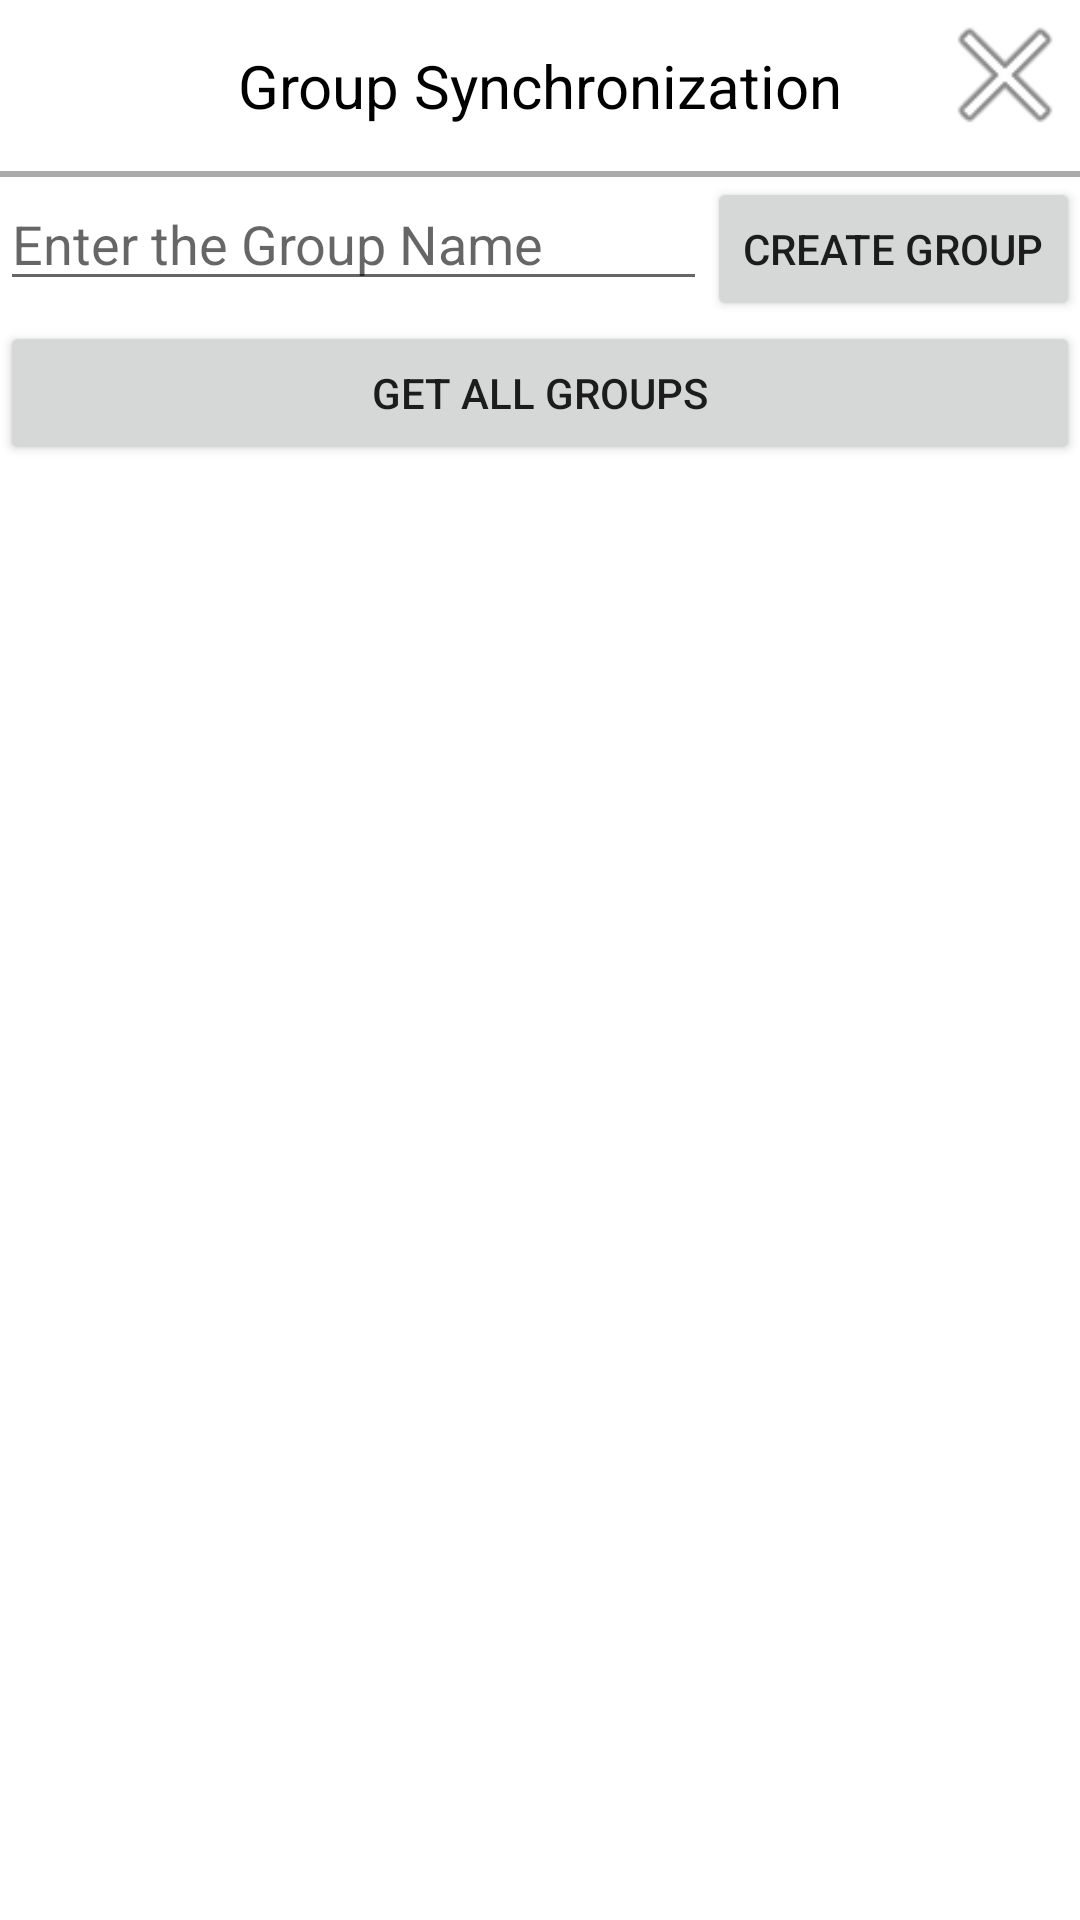

Point at icon controls on the screen. Image size 1080px×1920px, points as (x,y).
close clear cancel: (1005,75)
